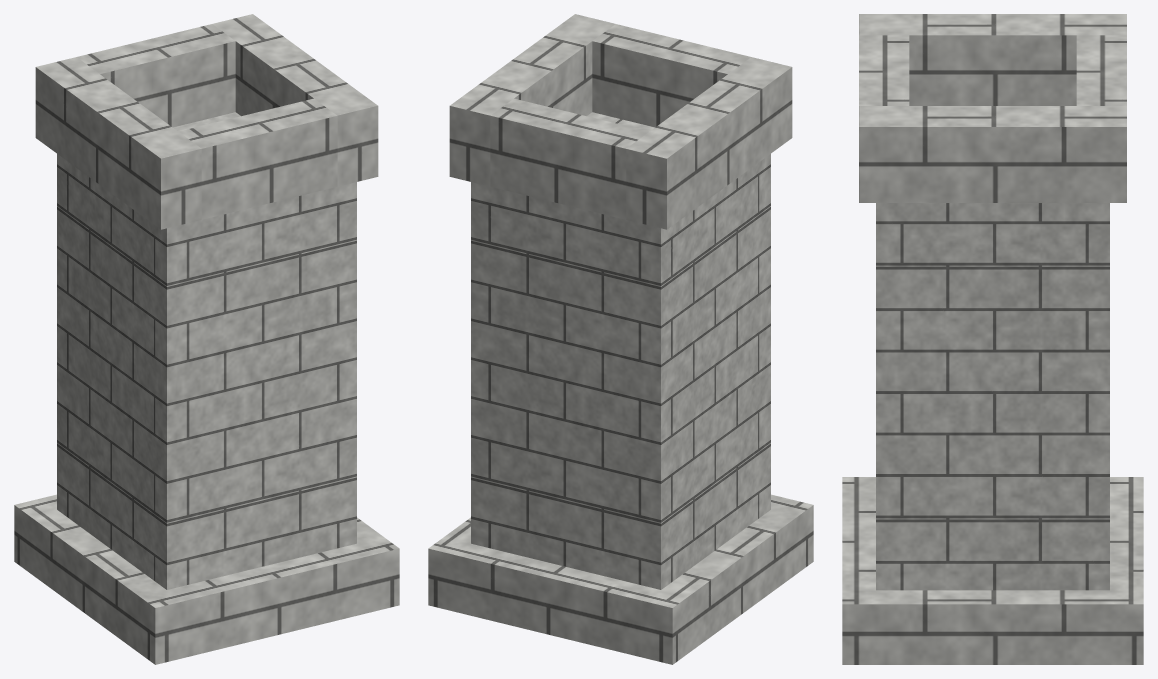
Rendered from 선택위습_모서리기둥.fbx.
The picture shows the model from 3 angles, left to right: view 1: azimuth 30°, elevation 25°; view 2: azimuth 150°, elevation 25°; view 3: azimuth 270°, elevation 25°; orthographic projection. The views are drawn at different scales.
Parts seen in each view (by area): view 1: Cube.001, Cube, Cube.002, Cube.004, Cube.003, Cube.005; view 2: Cube.001, Cube, Cube.002, Cube.005, Cube.003, Cube.004; view 3: Cube.001, Cube, Cube.003, Cube.002, Cube.004, Cube.005.
Part boxes in pixels (x1,y1,x2,y2): Cube.001: (57,112,356,589); Cube: (14,494,399,664); Cube.002: (35,57,201,229); Cube.004: (179,98,337,219); Cube.003: (212,14,378,186); Cube.005: (77,24,235,127); Cube.001: (471,112,770,589); Cube: (428,494,813,664); Cube.002: (626,57,792,229); Cube.005: (490,98,648,219); Cube.003: (449,14,615,186); Cube.004: (592,24,750,127); Cube.001: (876,203,1109,590); Cube: (842,477,1143,664); Cube.003: (859,106,1126,202); Cube.002: (859,14,1126,105); Cube.004: (859,35,909,105); Cube.005: (1076,35,1126,105).
Bounding box in the file's own units: 0.72 × 1.4 × 0.72.
